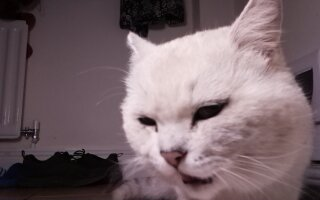bad: (111, 1, 314, 199)
